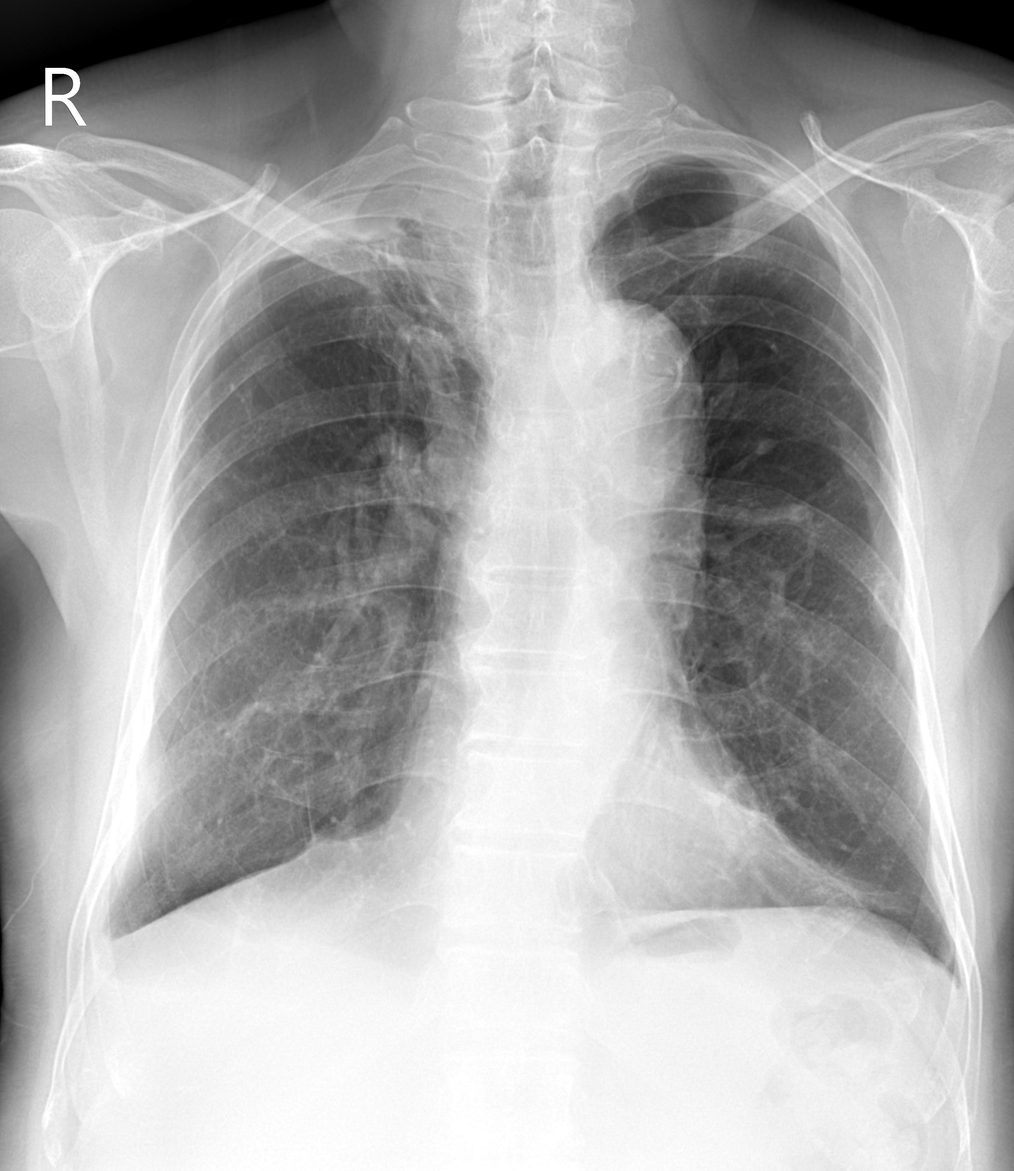Aortic enlargement: (569, 294, 707, 479)
Pleural thickening: (258, 163, 490, 261), (93, 890, 128, 981)
Pulmonary fibrosis: (357, 229, 465, 404), (283, 690, 320, 842)
